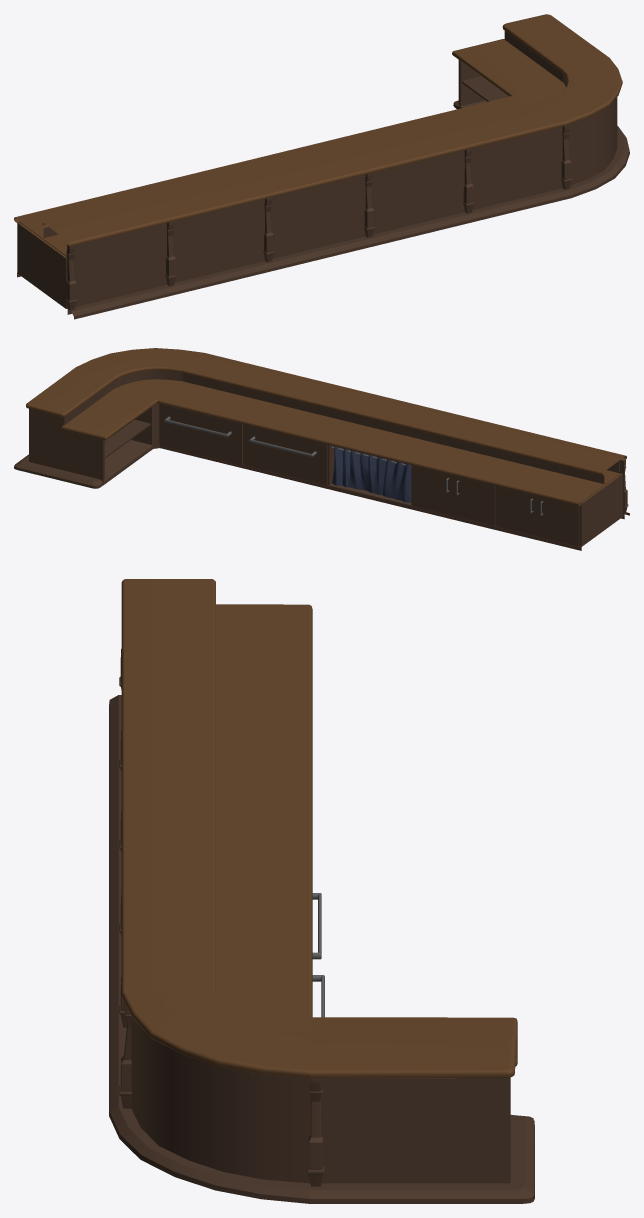
Rendered from bar_LP.fbx.
The picture shows the model from 3 angles, top to bottom: view 1: azimuth 30°, elevation 25°; view 2: azimuth 150°, elevation 25°; view 3: azimuth 270°, elevation 25°; orthographic projection. The views are drawn at different scales.
Parts seen in each view (by area): view 1: Bar_export2; view 2: Bar_export2; view 3: Bar_export2.
Part boxes in pixels (x1,y1,x2,y2): Bar_export2: (14, 14, 629, 319); Bar_export2: (14, 348, 629, 550); Bar_export2: (109, 579, 534, 1203).
Bounding box in the file's own units: 1098 × 129 × 395.
